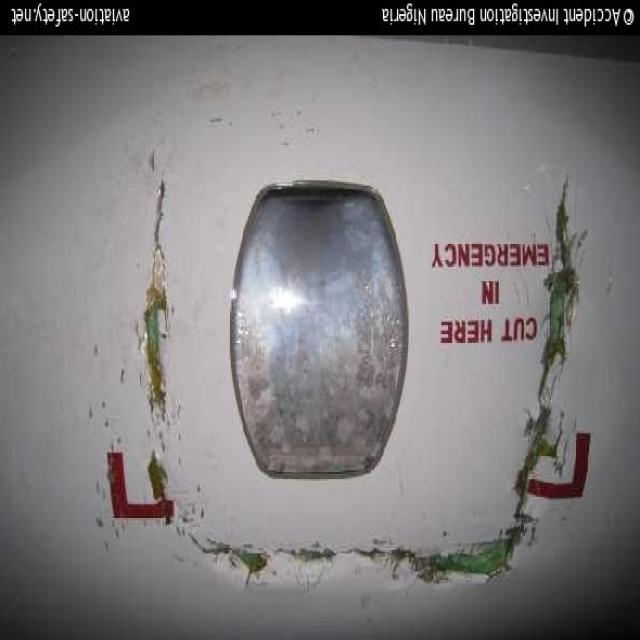crack: (508, 173, 591, 532), (185, 535, 525, 583), (140, 180, 174, 428)
